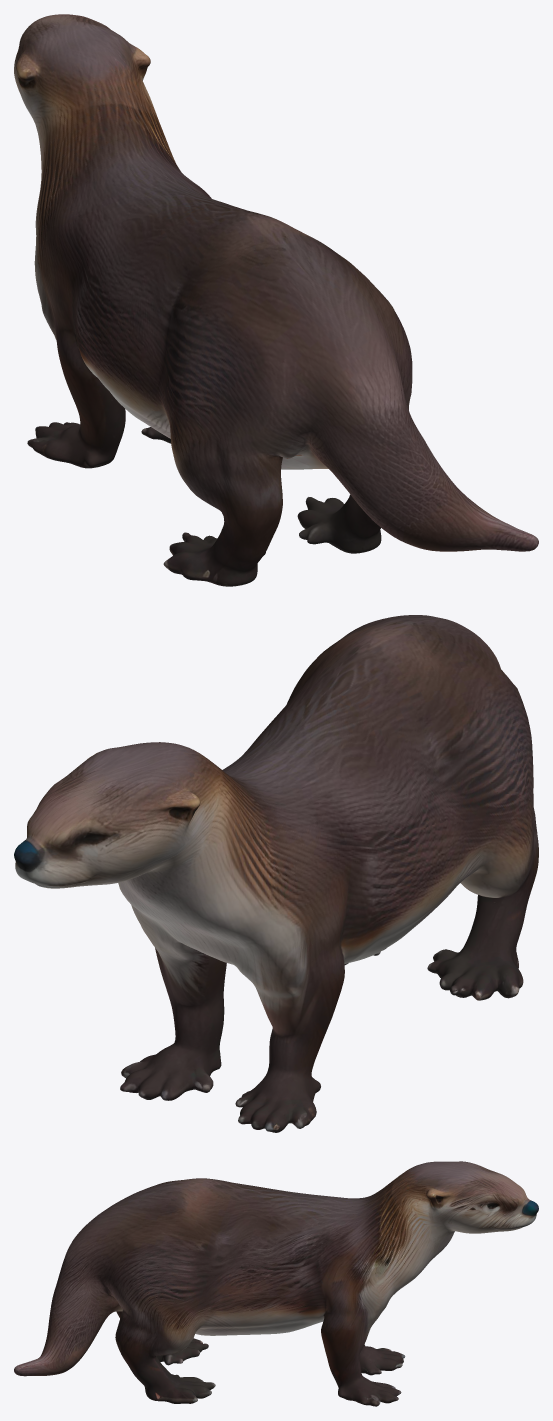
File: vidra.glb
3 renders of one model, top to bottom at view 1: azimuth 30°, elevation 25°; view 2: azimuth 150°, elevation 25°; view 3: azimuth 270°, elevation 25°, orthographic. The views are drawn at different scales.
Visible parts, largest first — view 1: tripo_node_8f1d01b6-94be-4f90-9d2f-7622e264dd2e; view 2: tripo_node_8f1d01b6-94be-4f90-9d2f-7622e264dd2e; view 3: tripo_node_8f1d01b6-94be-4f90-9d2f-7622e264dd2e.
Boxes of the visible parts, x1,y1,x2,y2 form: tripo_node_8f1d01b6-94be-4f90-9d2f-7622e264dd2e: (14,14,538,586); tripo_node_8f1d01b6-94be-4f90-9d2f-7622e264dd2e: (14,615,538,1132); tripo_node_8f1d01b6-94be-4f90-9d2f-7622e264dd2e: (14,1161,538,1406).
Bounding box in the file's own units: 0.3132 × 0.4387 × 0.9446.
1 material, 1 textured.
